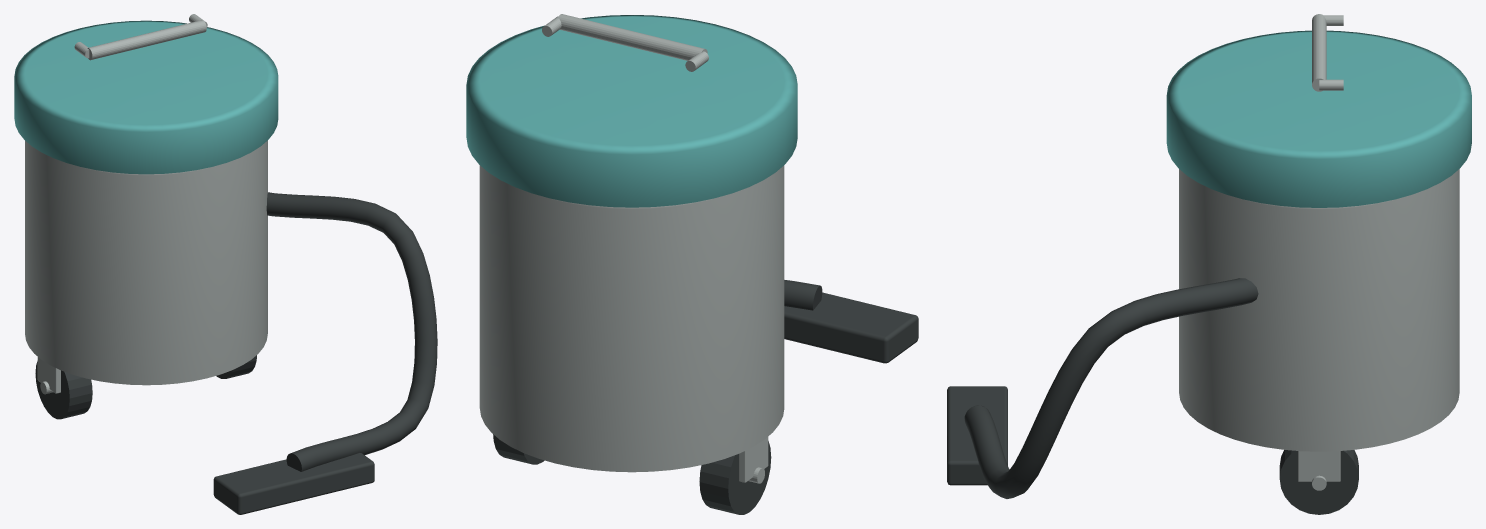
The model's file is indoor-climbing-and-bouldering-gym-indoor-climbing-and-7718104a__31560.glb.
3 renders of one model, left to right at view 1: azimuth 30°, elevation 25°; view 2: azimuth 150°, elevation 25°; view 3: azimuth 270°, elevation 25°, orthographic. The views are drawn at different scales.
Parts seen in each view (by area): view 1: indoor-climbing-and-bouldering-gym-chalk-extraction-vacuum; view 2: indoor-climbing-and-bouldering-gym-chalk-extraction-vacuum; view 3: indoor-climbing-and-bouldering-gym-chalk-extraction-vacuum.
Part boxes in pixels (x1,y1,x2,y2): indoor-climbing-and-bouldering-gym-chalk-extraction-vacuum: (14, 14, 437, 514); indoor-climbing-and-bouldering-gym-chalk-extraction-vacuum: (466, 14, 918, 514); indoor-climbing-and-bouldering-gym-chalk-extraction-vacuum: (947, 14, 1471, 514).
Size of the model in its own units: 0.6326 by 0.752 by 0.86.
